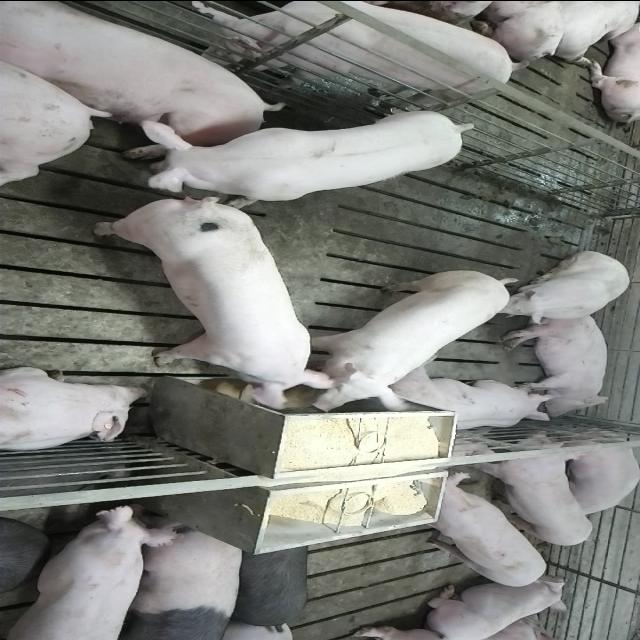Feeding: (90, 196, 335, 414), (294, 268, 520, 415)
Lateral_lying: (0, 1, 291, 159), (497, 312, 612, 420)
Sitting: (486, 248, 634, 324)
Standing: (188, 0, 532, 109), (118, 112, 492, 209), (0, 501, 186, 639), (125, 512, 258, 640), (399, 473, 547, 588), (454, 432, 598, 546), (222, 522, 314, 634)
Sternal_lying: (0, 355, 148, 452), (376, 364, 560, 431), (421, 576, 578, 640), (549, 430, 640, 518)
